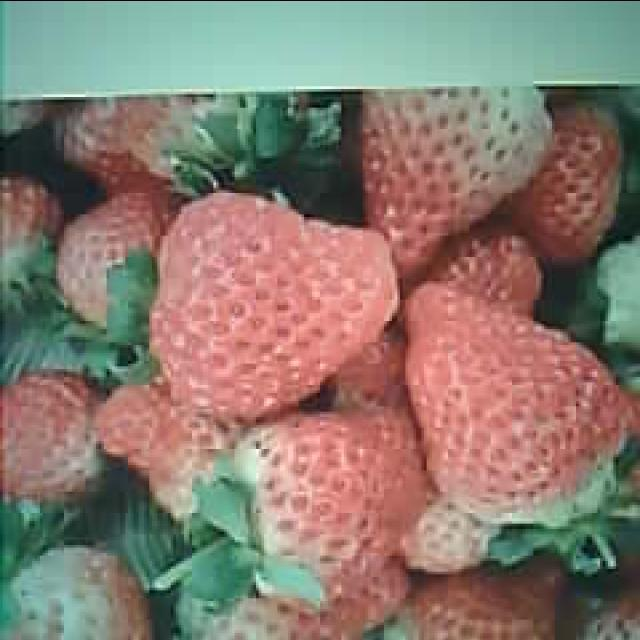strawberry: (154, 192, 398, 418), (402, 282, 632, 520), (352, 82, 550, 262), (246, 414, 426, 595)
